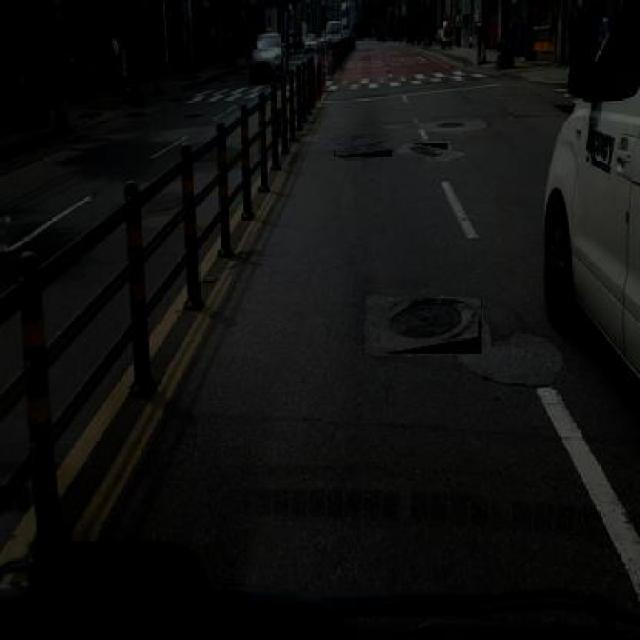Manhole: (387, 298, 482, 354), (334, 148, 392, 158), (412, 143, 448, 157)
Pothole: (416, 110, 500, 134)
